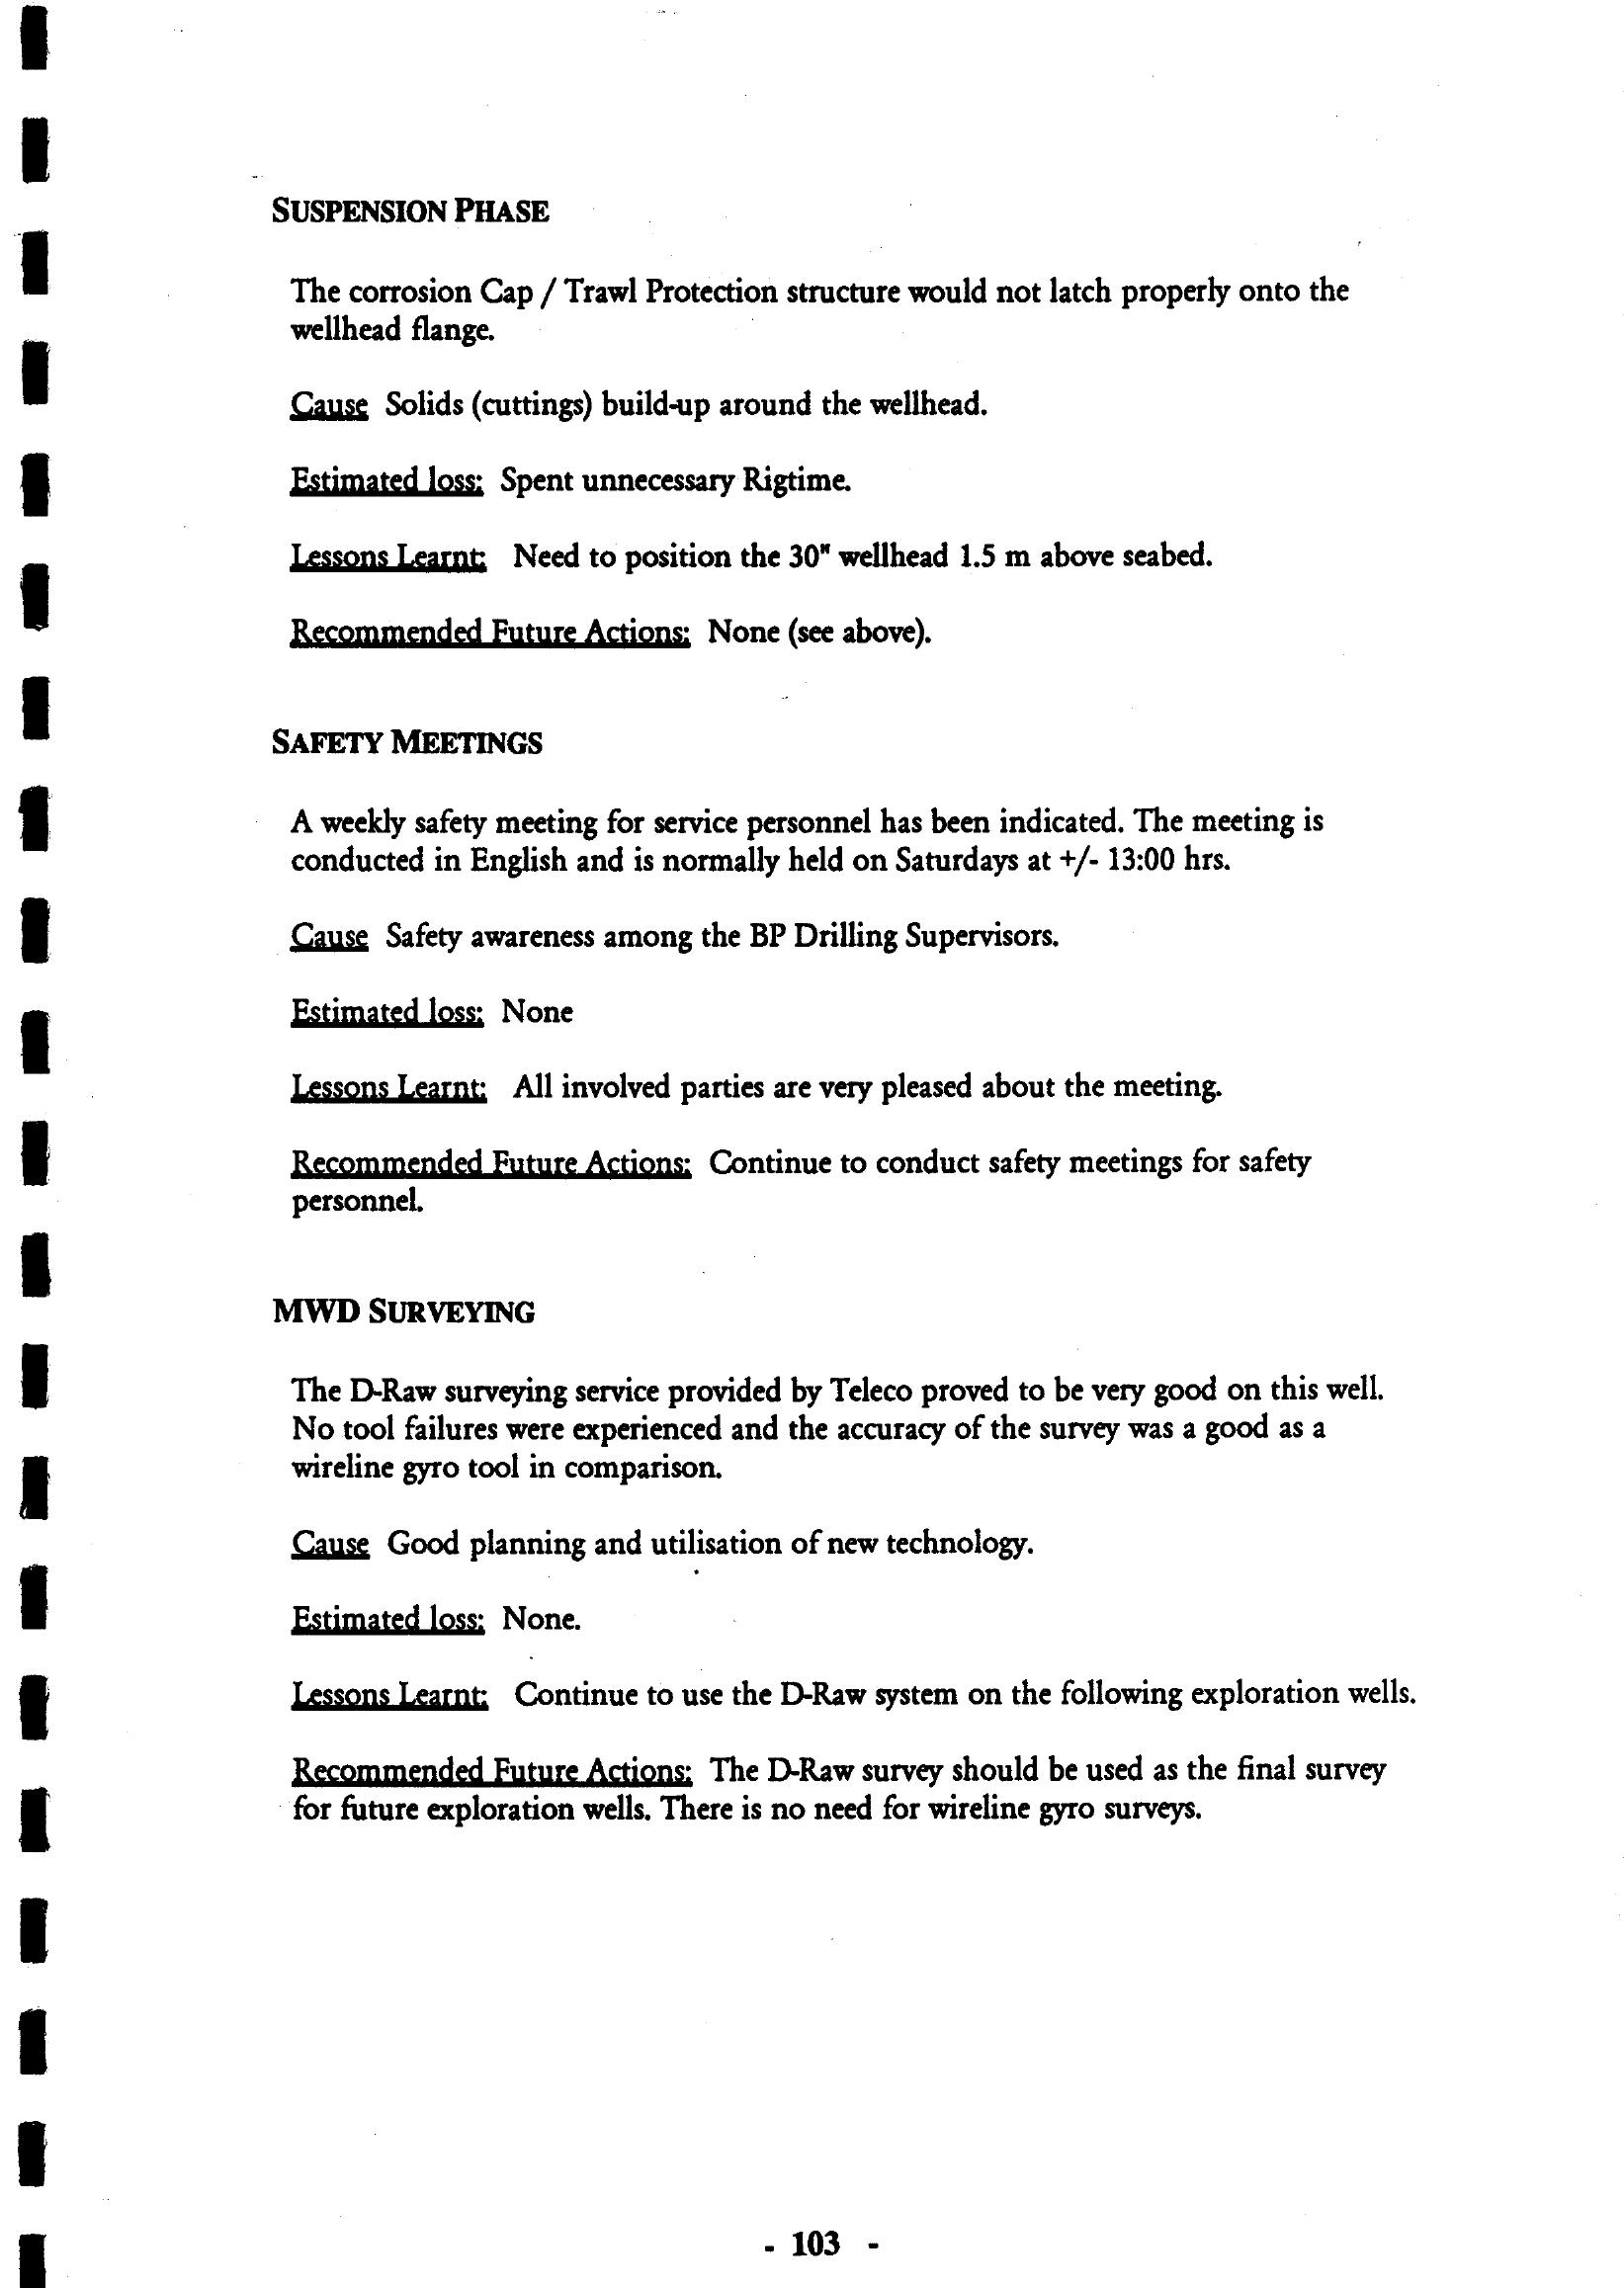text: (236, 153, 1457, 1900)
